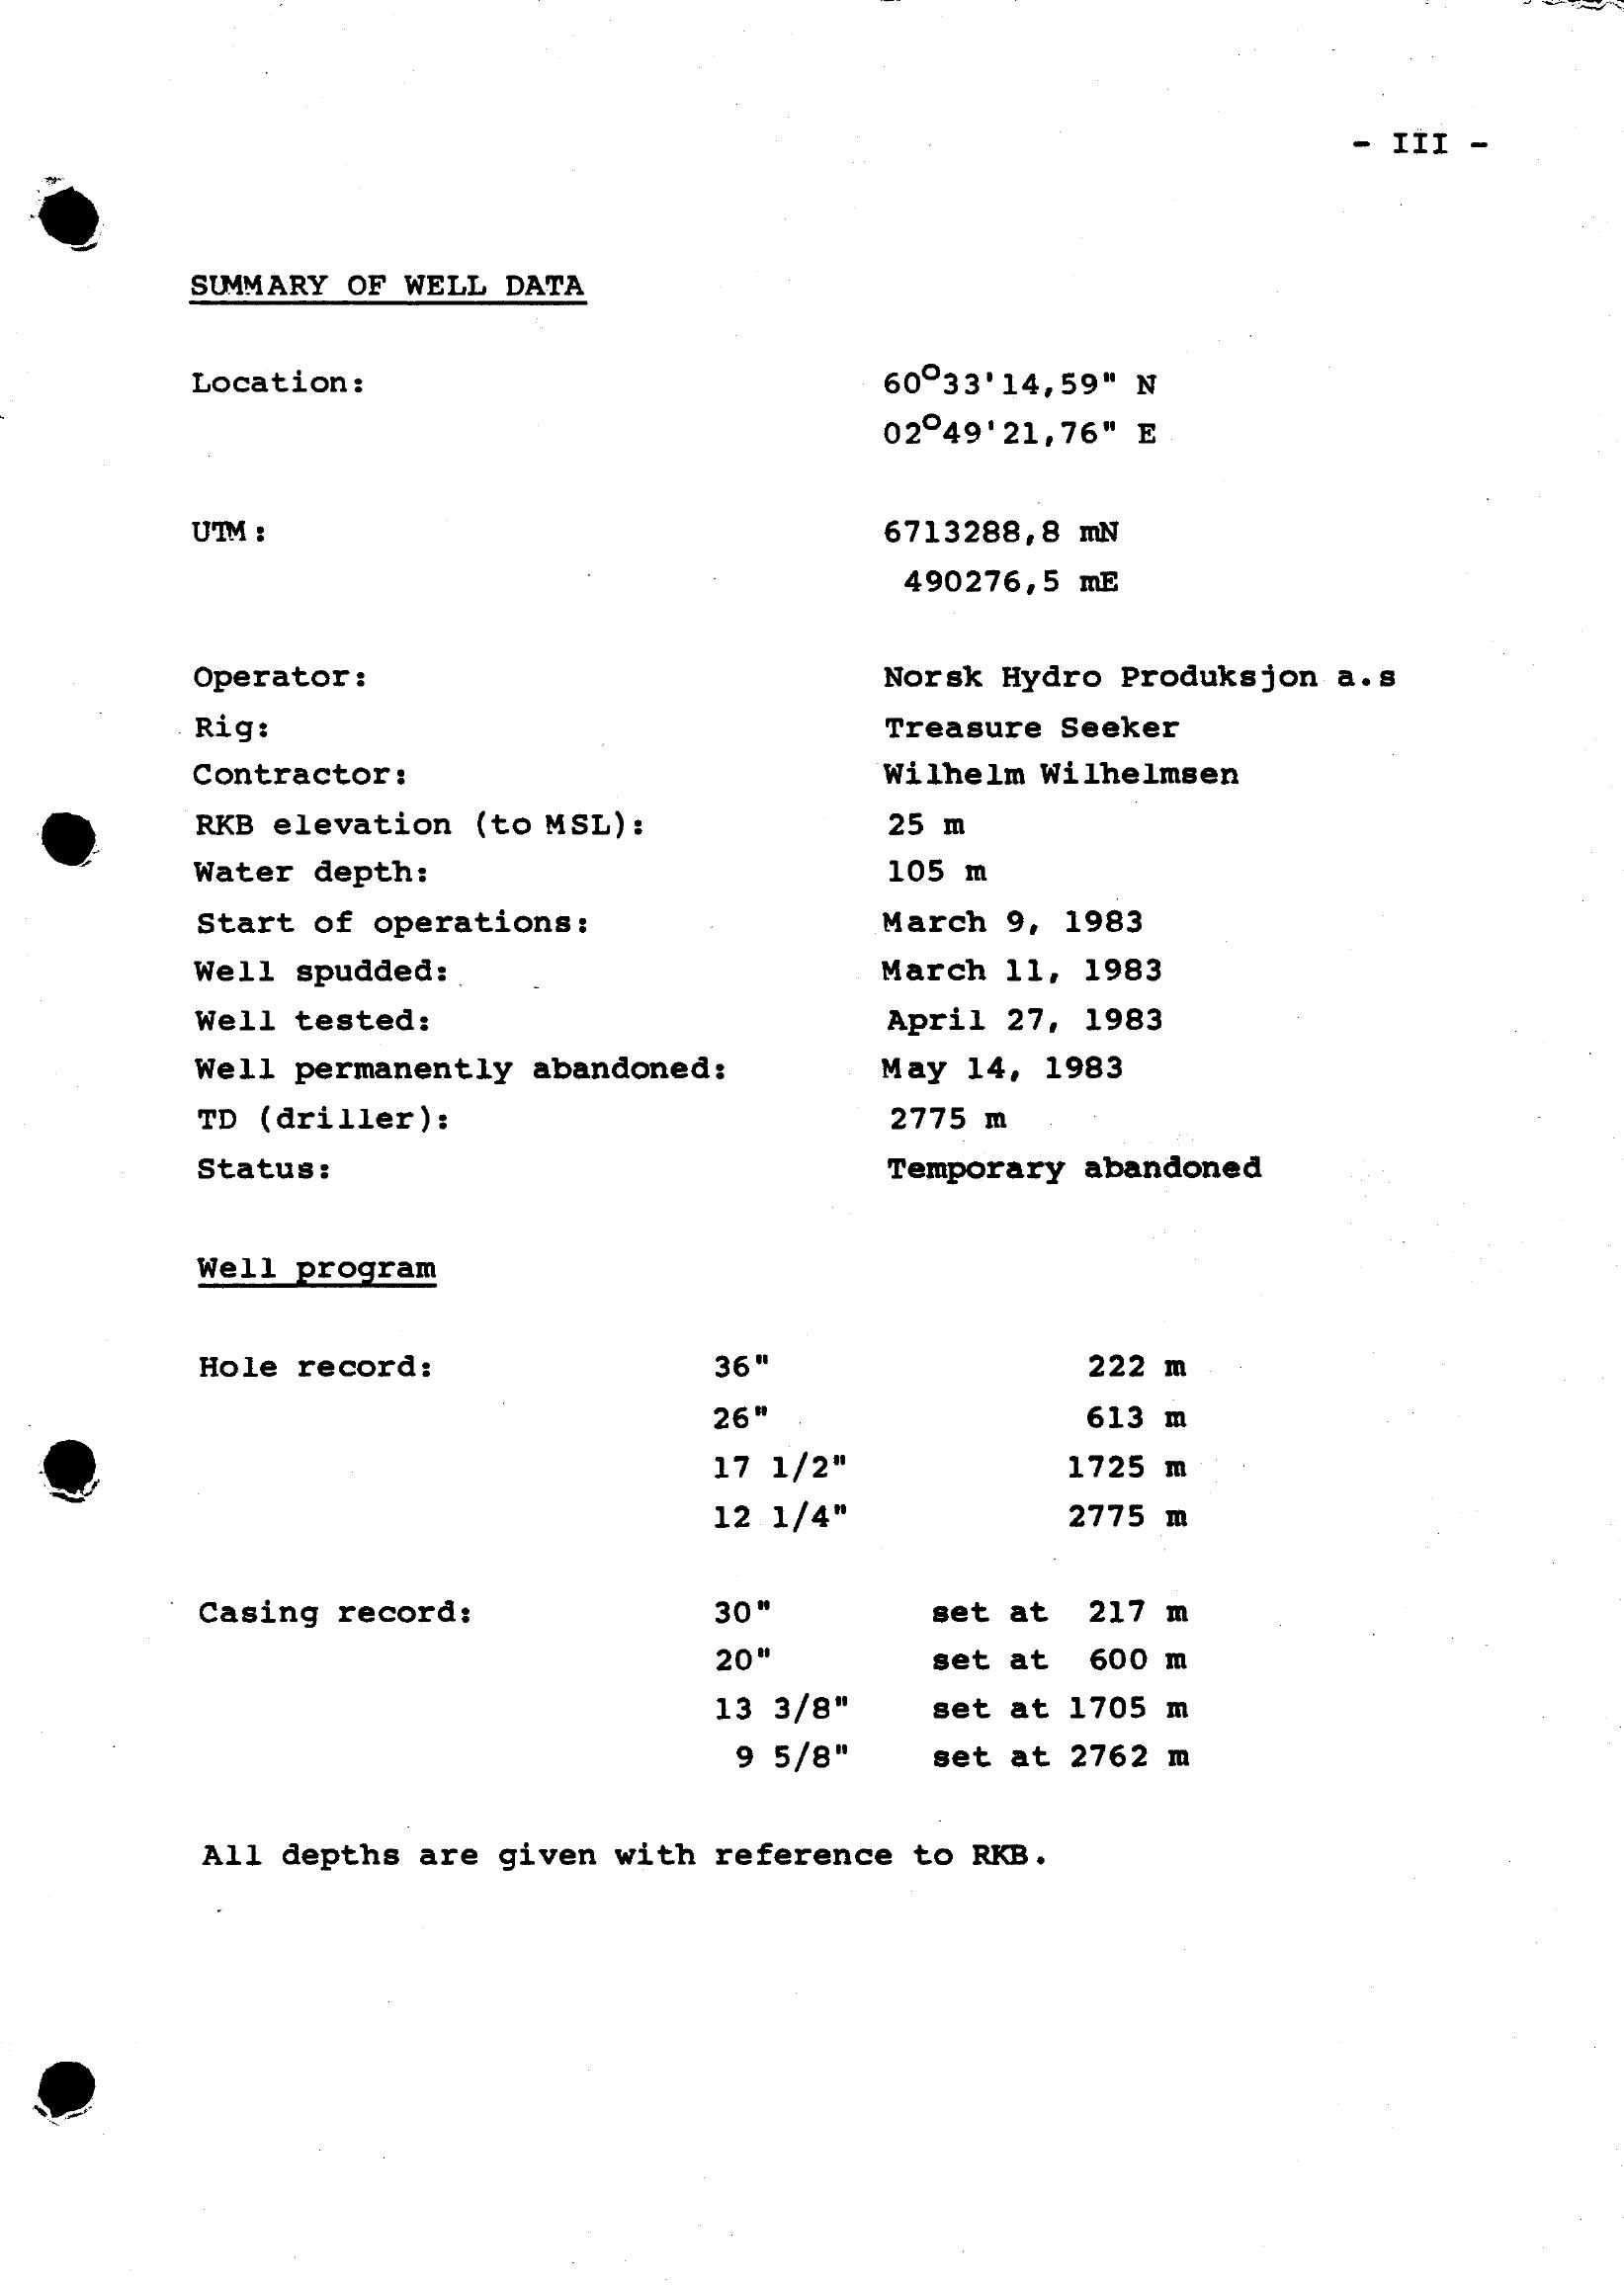text: (167, 237, 1429, 1235), (172, 1248, 1330, 1937)
